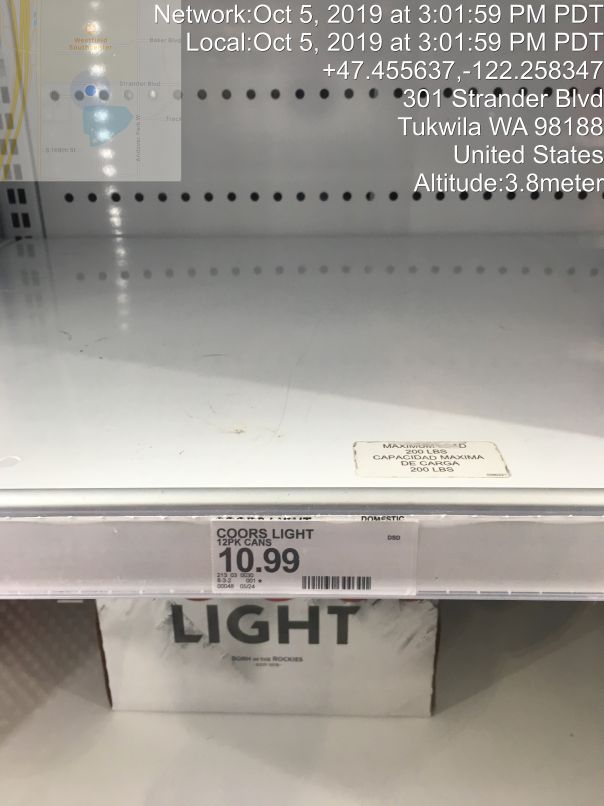Coors Light: (86, 583, 473, 737)
Label: (207, 512, 422, 602)
Location: (395, 81, 604, 173)
Time: (151, 2, 604, 58)
Void: (30, 108, 539, 460)
